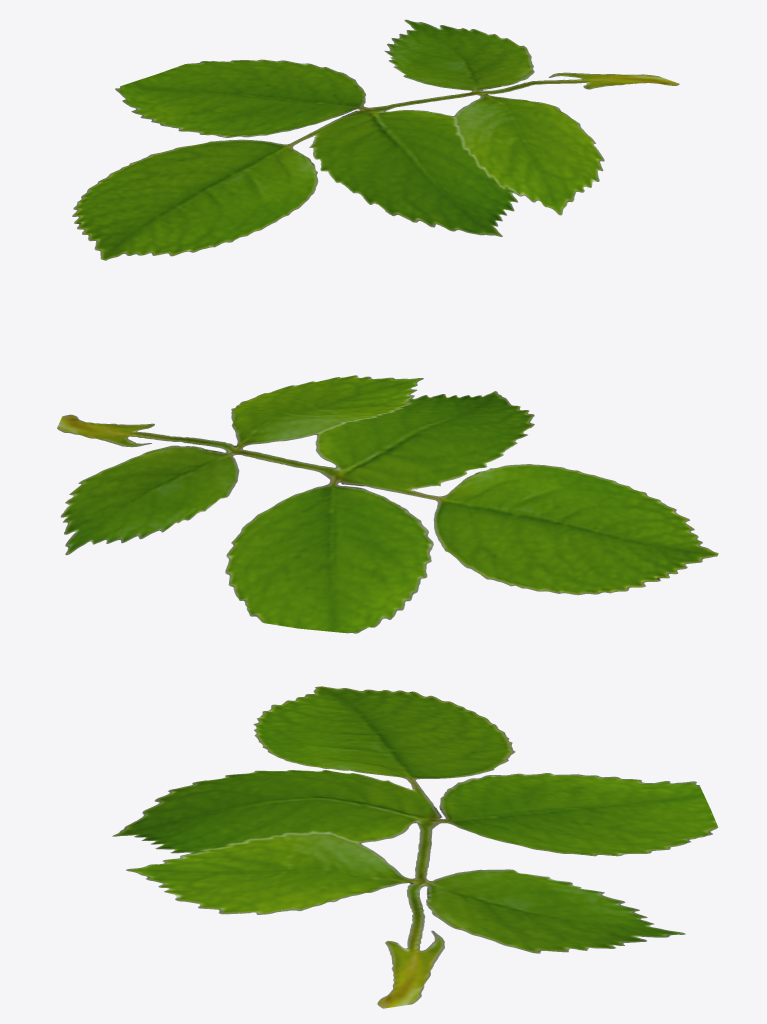
The model's file is roseleave2.fbx.
The picture shows the model from 3 angles, top to bottom: view 1: azimuth 30°, elevation 25°; view 2: azimuth 150°, elevation 25°; view 3: azimuth 270°, elevation 25°; orthographic projection. The views are drawn at different scales.
Parts seen in each view (by area): view 1: 1; view 2: 1; view 3: 1.
Boxes of the visible parts, x1,y1,x2,y2 form: 1: (72, 19, 679, 260); 1: (57, 375, 718, 633); 1: (112, 686, 718, 1008).
Bounding box in the file's own units: 0.5892 × 0.0453 × 0.5302.
